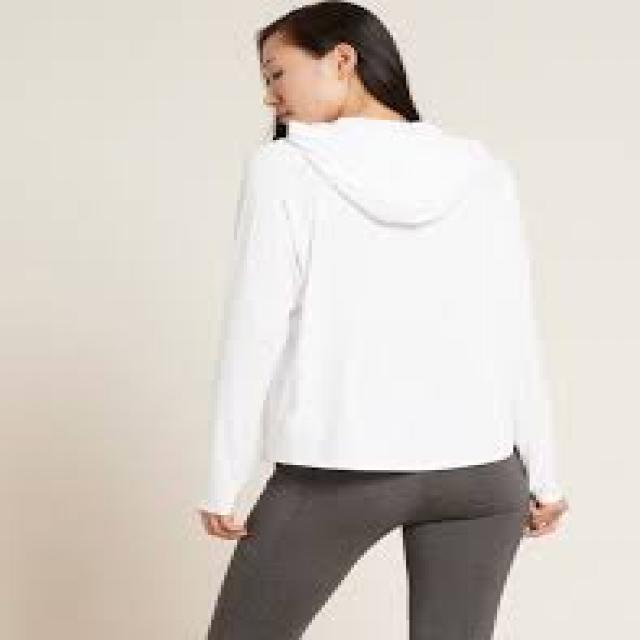plain: (204, 112, 562, 478)
